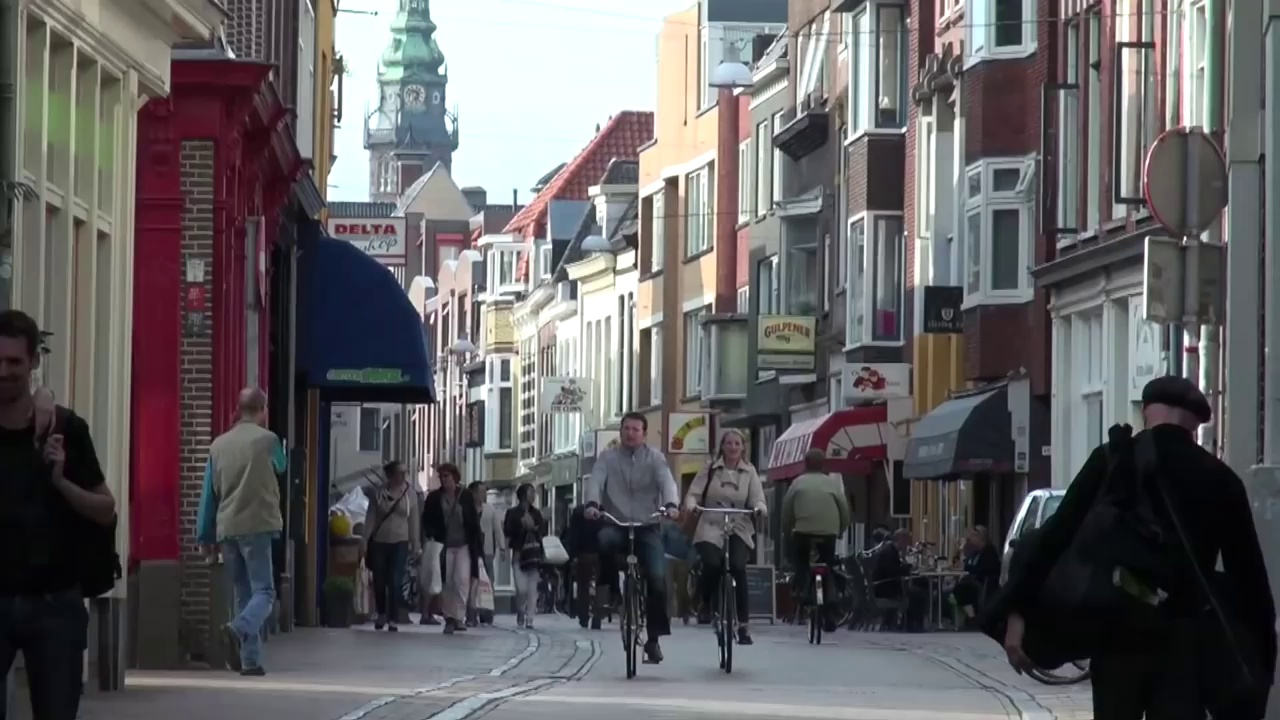cyclist_back: (783, 449, 850, 656)
cyclist_front: (584, 407, 681, 685), (688, 425, 766, 682)
